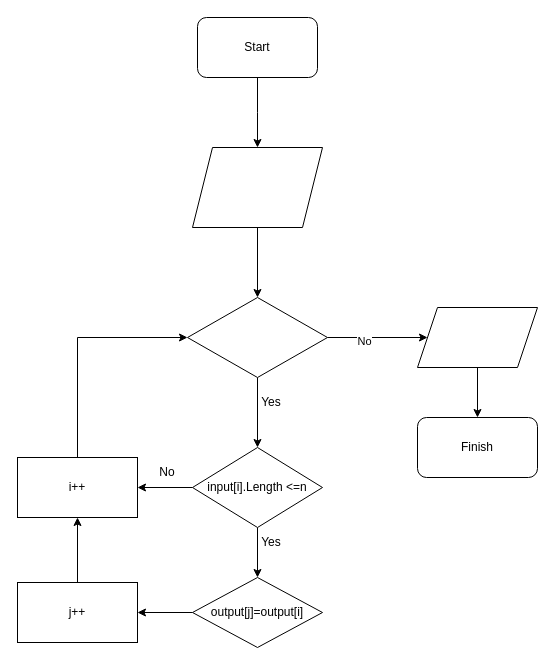
This 555x665 diagram has some shape labels left out. The shapes that lost their labels are listed below. From the top down, each one's centre as x and y in pixels, then its label:
(257,187): string[] input sting[] output i=0 j=o n=3
(257,337): i< input.Length
(477,337): output
